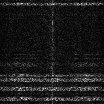wifi: (1, 95, 104, 100), (1, 77, 104, 81), (1, 86, 104, 90), (1, 3, 104, 5), (1, 74, 104, 76)
